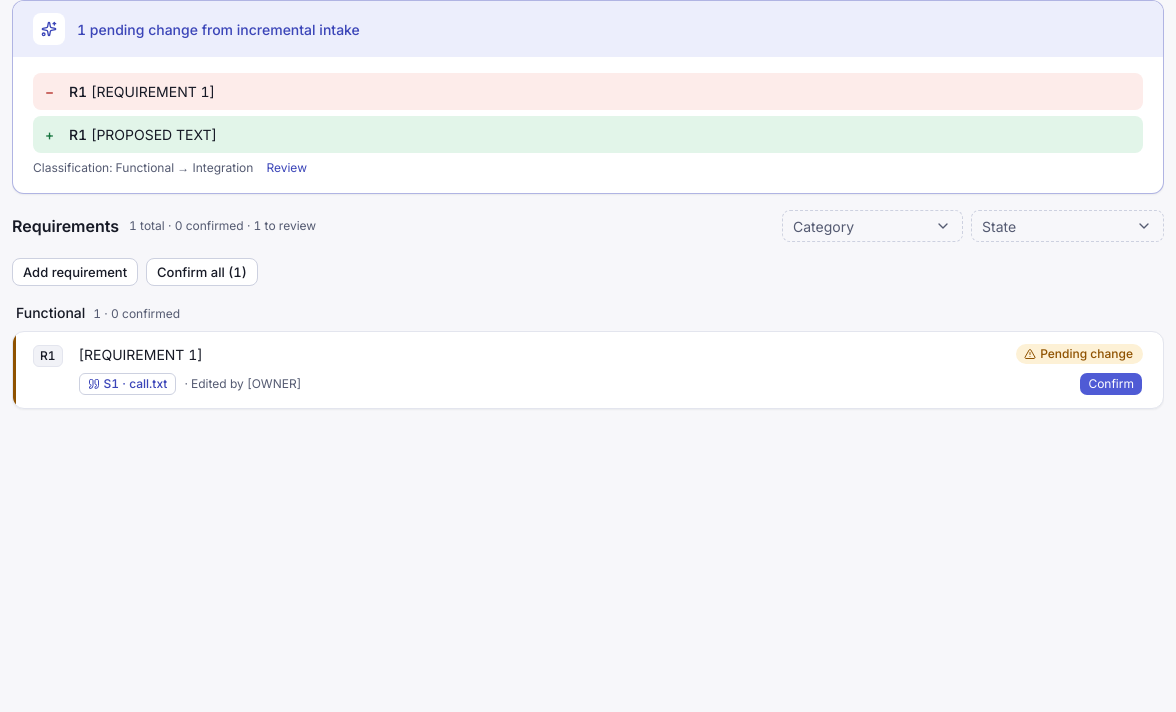
Test: a Requirement with a pending change › a 412 shows the stale notice with Reload; Reload reads the list again
Click the button "[REQUIREMENT 1]" at (141, 354), box x1=79 y1=344 x2=1000 y2=365
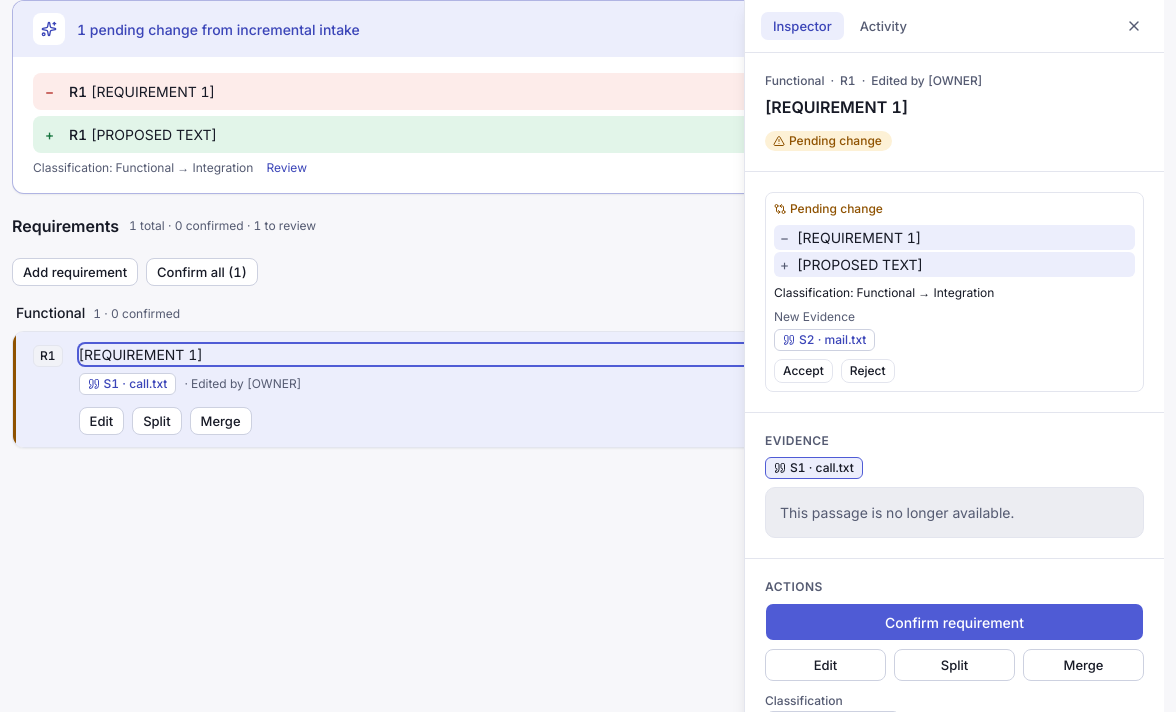
Click the button "Accept" at (803, 371), box x1=774 y1=359 x2=833 y2=383
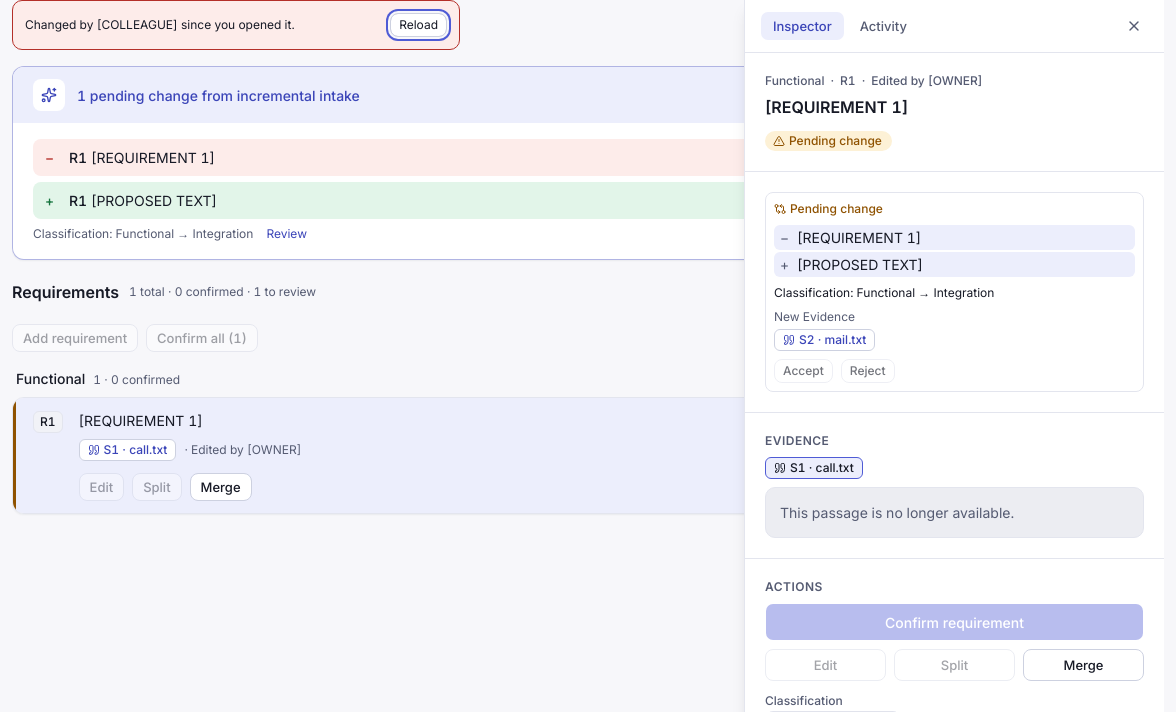
Now the text "Changed by [COLLEAGUE] since you opened it." is shown, box x1=25 y1=17 x2=295 y2=33
Now the button "Accept" is disabled, box x1=774 y1=359 x2=833 y2=383
Click the button "Reload" at (419, 25), box x1=390 y1=13 x2=447 y2=37
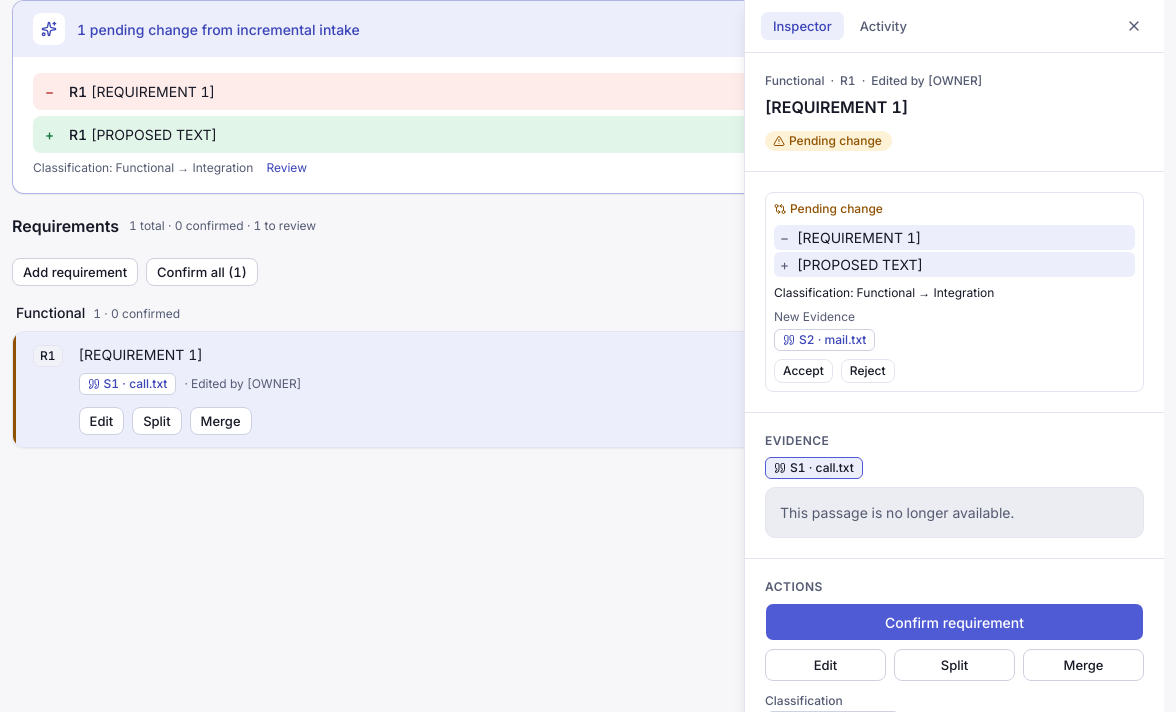
Now the button "Reload" is gone
